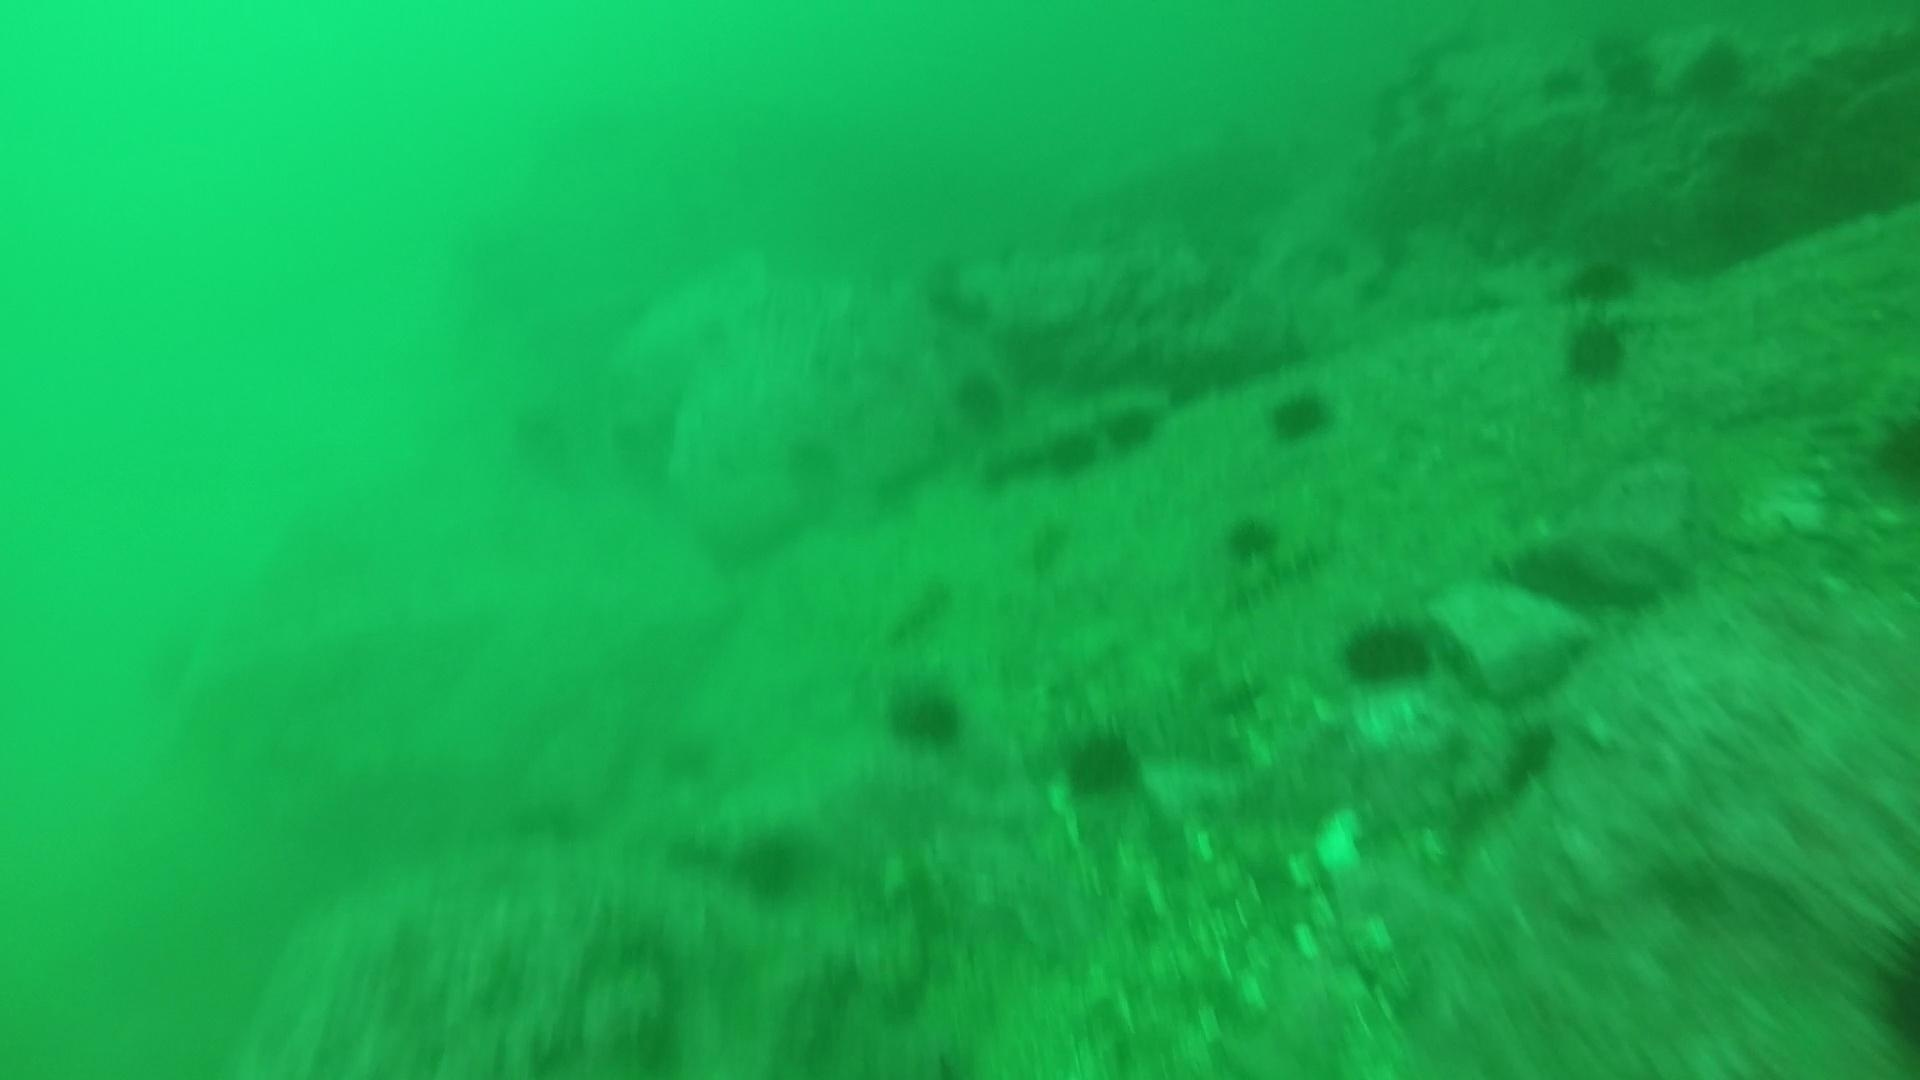echinus: (1336, 611, 1441, 694), (1861, 920, 1920, 1056), (1055, 720, 1147, 804), (881, 673, 971, 756), (728, 822, 815, 905), (1556, 313, 1635, 389), (1865, 404, 1920, 502), (1672, 22, 1747, 92), (1592, 47, 1667, 117), (1261, 382, 1340, 448), (1724, 109, 1797, 179), (1706, 185, 1782, 253), (1509, 41, 1584, 109), (1575, 11, 1650, 79), (1497, 717, 1564, 793), (1560, 251, 1640, 309), (945, 365, 1011, 433), (1036, 421, 1106, 483), (1097, 398, 1167, 459), (1217, 509, 1284, 568)
